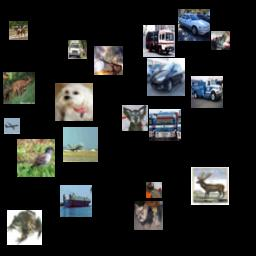airplane: (63, 127, 98, 162), (4, 118, 20, 134)
automobile: (147, 58, 185, 96), (178, 9, 210, 41)
bird: (17, 139, 55, 177)
cat: (146, 182, 162, 198)
deer: (191, 167, 229, 205), (3, 72, 35, 104), (94, 46, 123, 75)
dog: (55, 83, 93, 121), (134, 201, 163, 230), (122, 105, 148, 131)
frog: (7, 210, 42, 245), (211, 31, 230, 50)
ship: (60, 185, 92, 217)
truck: (143, 25, 175, 57), (191, 76, 223, 108), (149, 109, 181, 141), (68, 40, 87, 59)
